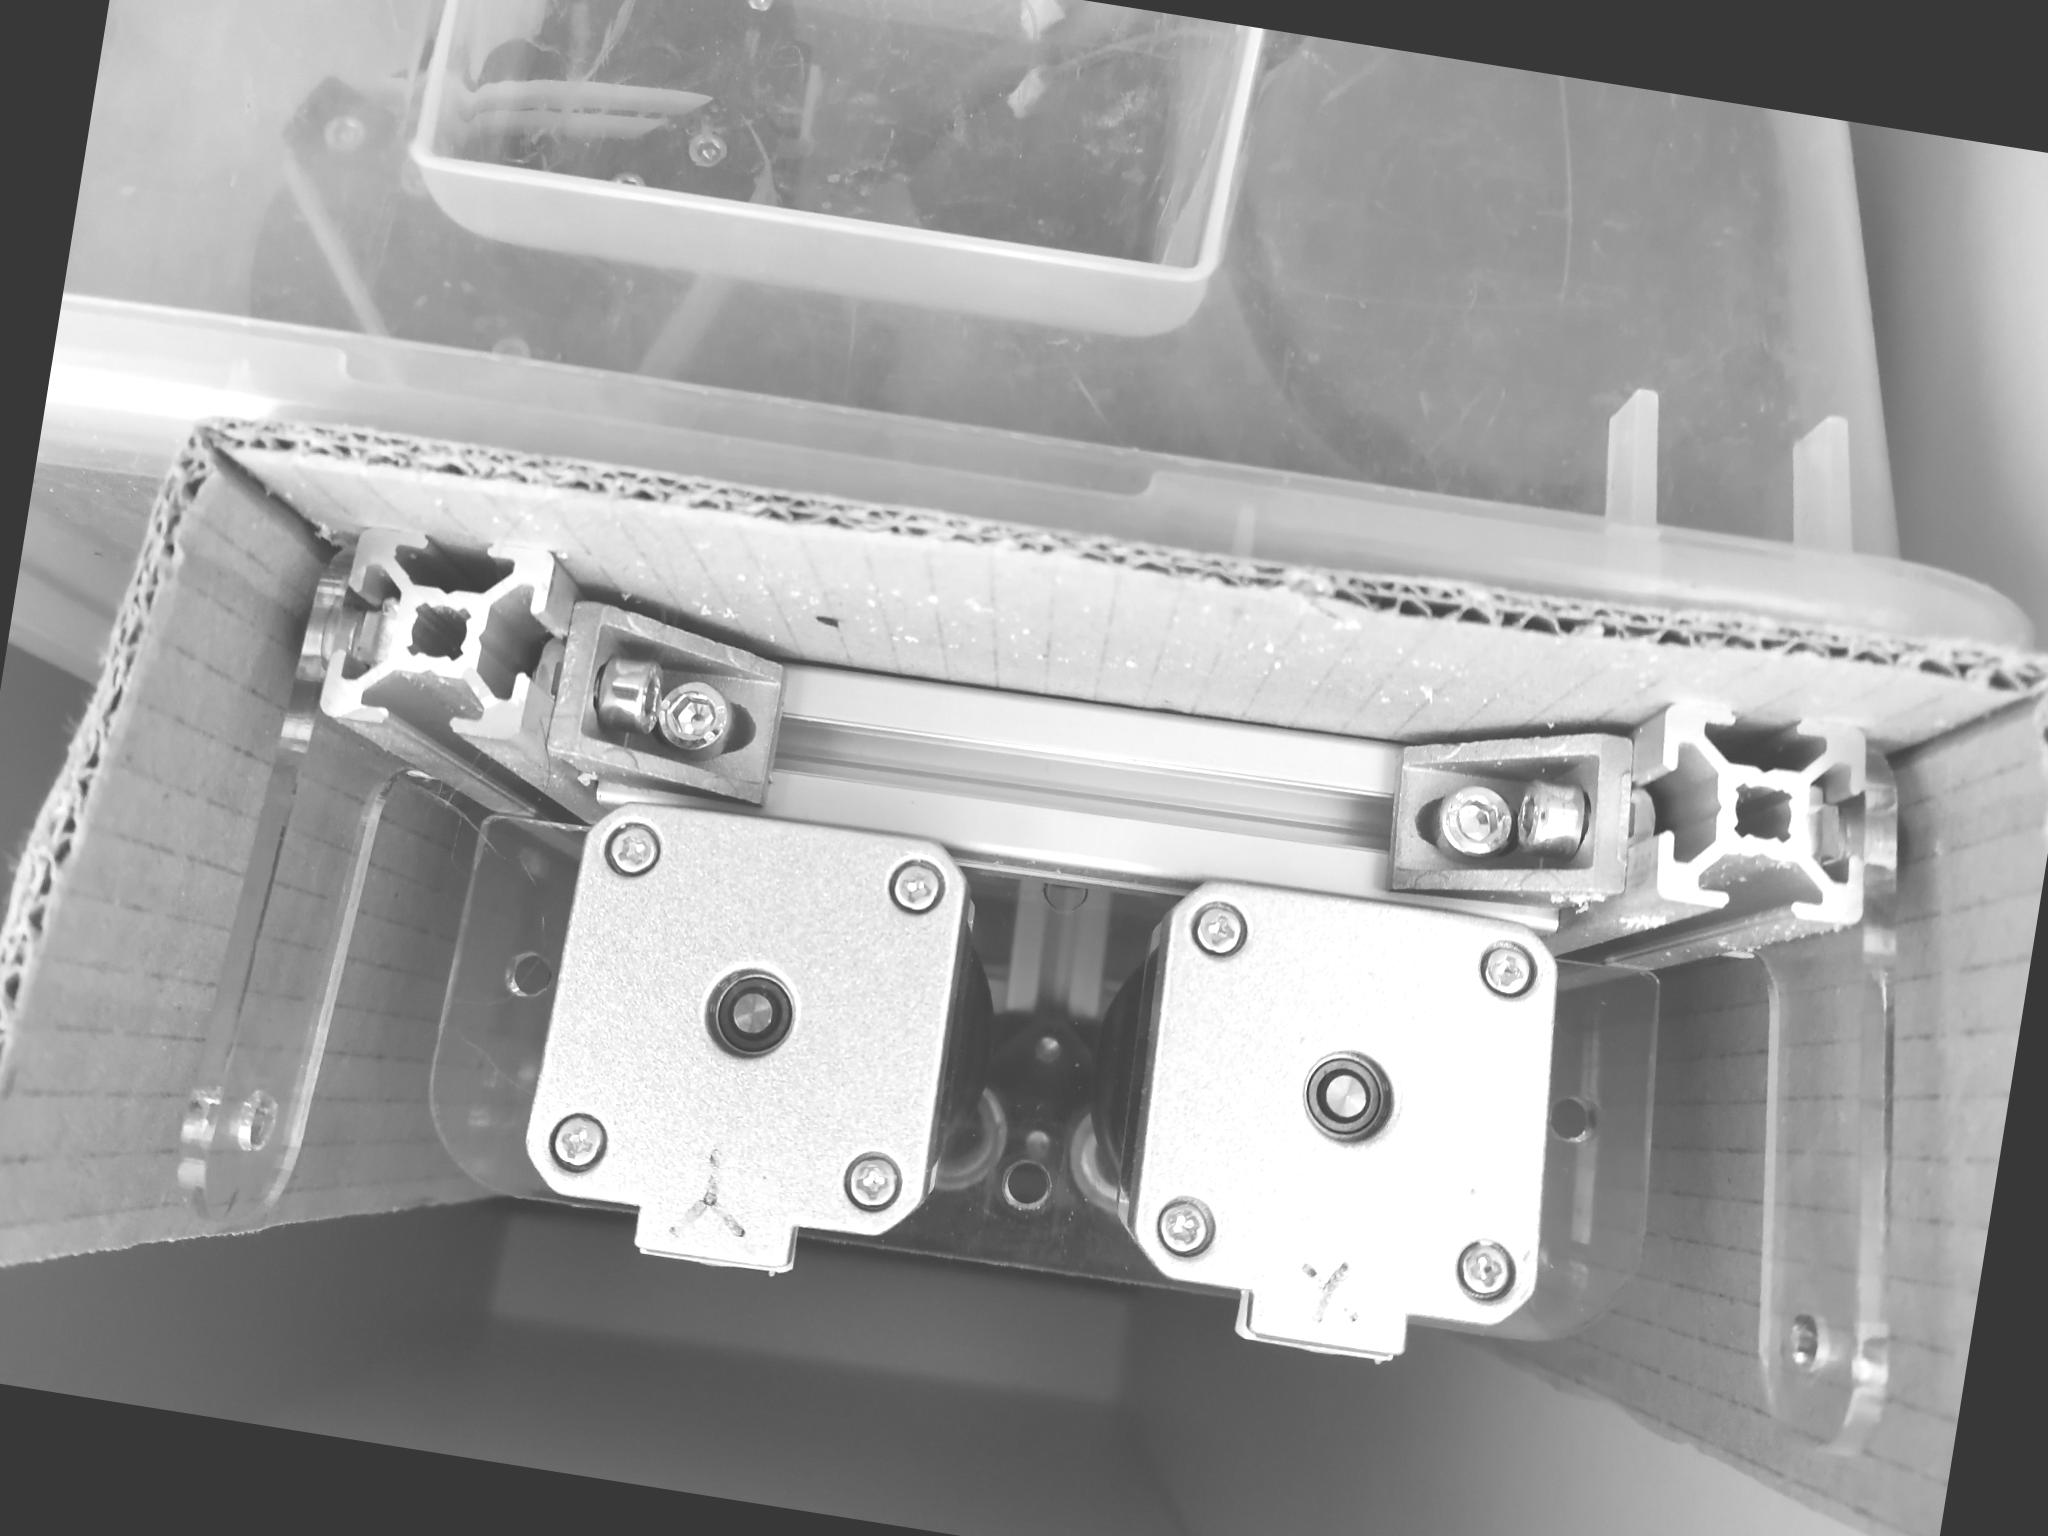screw: (1432, 778, 1522, 865), (648, 673, 735, 757), (542, 1105, 614, 1178), (598, 816, 671, 887), (1150, 1194, 1222, 1263), (1451, 1236, 1522, 1305), (837, 1147, 910, 1215), (1474, 936, 1543, 1002), (884, 852, 950, 920), (1190, 895, 1256, 960)
